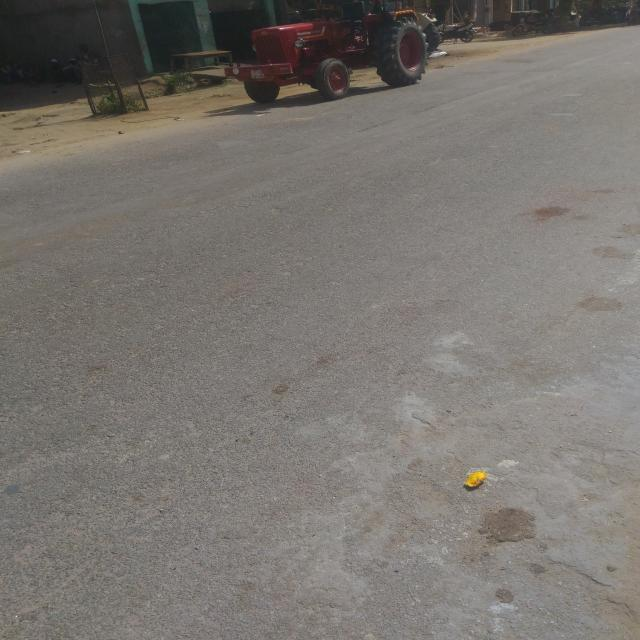Tractor: (212, 2, 482, 111)
